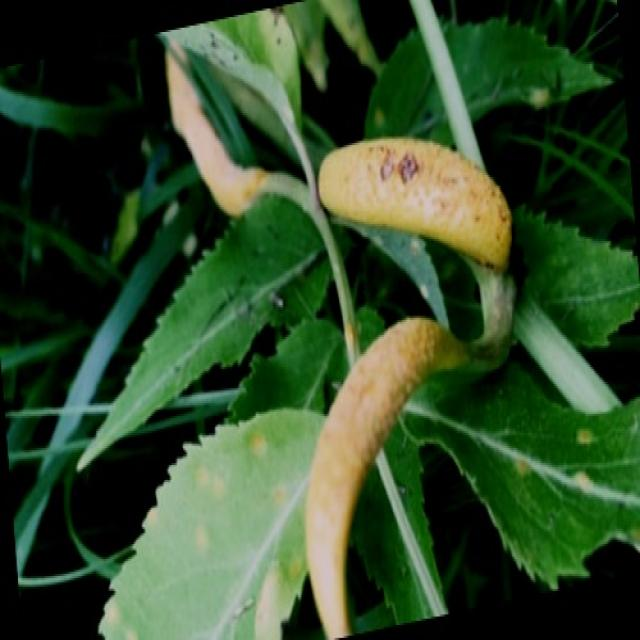Elderberry_rust: (303, 311, 470, 638), (316, 132, 513, 273)
